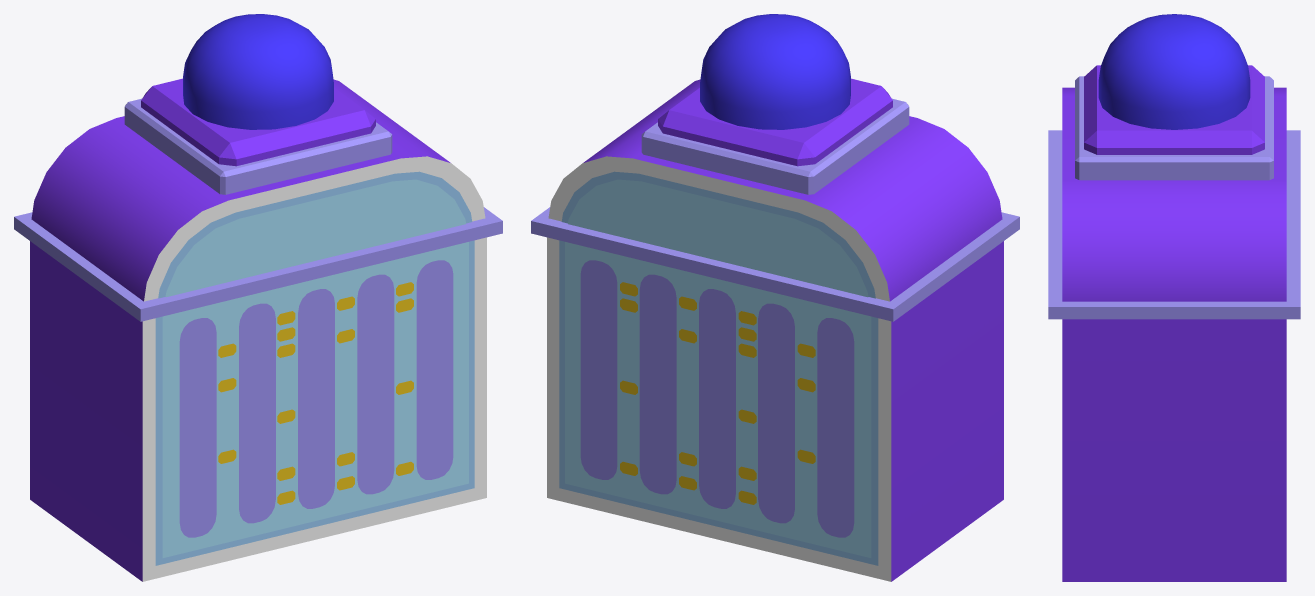
File: Building_036.fbx
3 renders of one model, left to right at view 1: azimuth 30°, elevation 25°; view 2: azimuth 150°, elevation 25°; view 3: azimuth 270°, elevation 25°, orthographic.
Parts seen in each view (by area): view 1: Building_036; view 2: Building_036; view 3: Building_036.
Part boxes in pixels (left/top/right/bottom): Building_036: left=14, top=14, right=502, bottom=581; Building_036: left=531, top=14, right=1019, bottom=581; Building_036: left=1048, top=14, right=1300, bottom=581.
Size of the model in its own units: 32.94 by 41.08 by 19.92.
